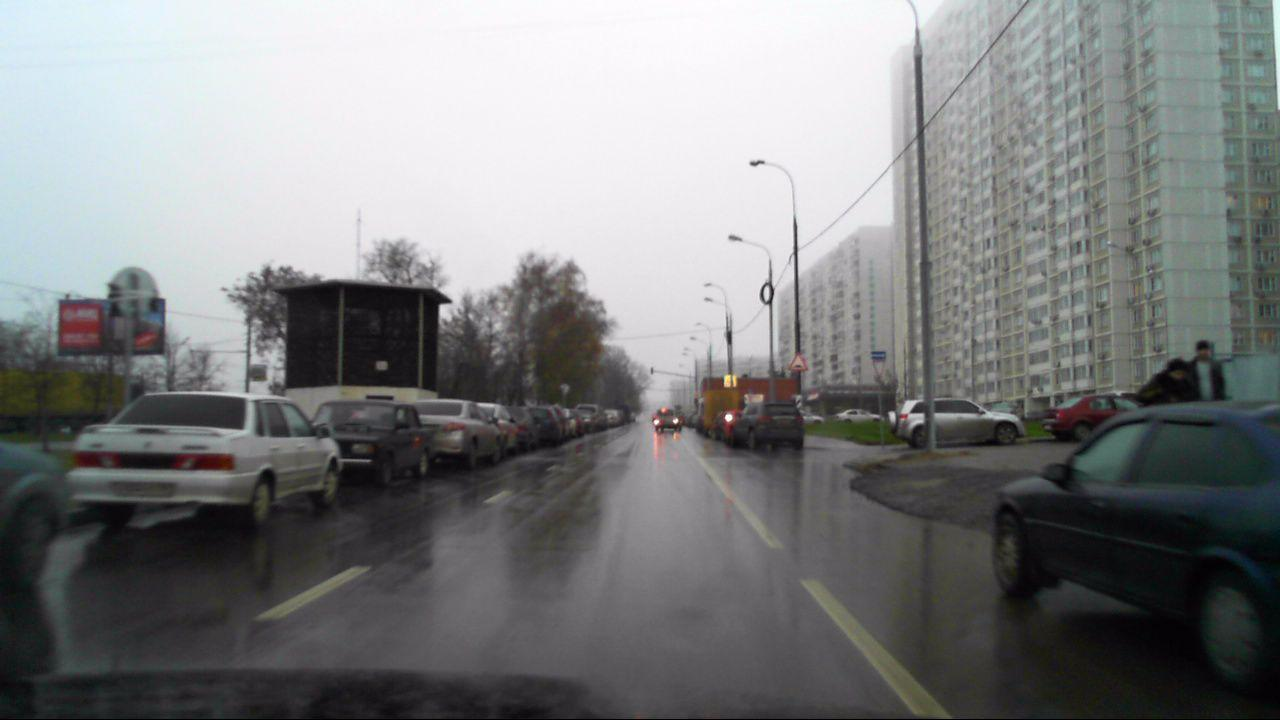road_sign: (789, 353, 809, 373)
